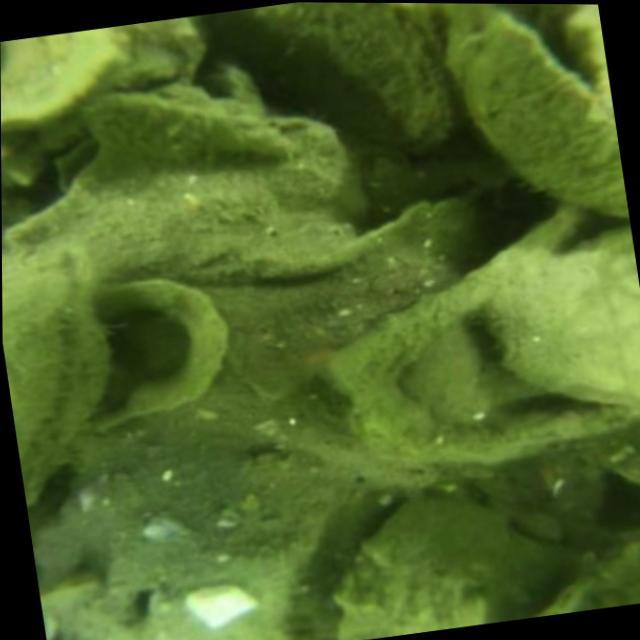Oyster-Closed: (2, 255, 110, 505)
Oyster-Indeterminate: (324, 203, 640, 465), (37, 457, 358, 640), (8, 121, 358, 287), (203, 2, 454, 152), (338, 498, 549, 638), (74, 275, 238, 439), (490, 242, 640, 407), (83, 85, 294, 167), (155, 563, 296, 640), (541, 542, 640, 615)
Oyster-Open: (442, 3, 626, 219)
